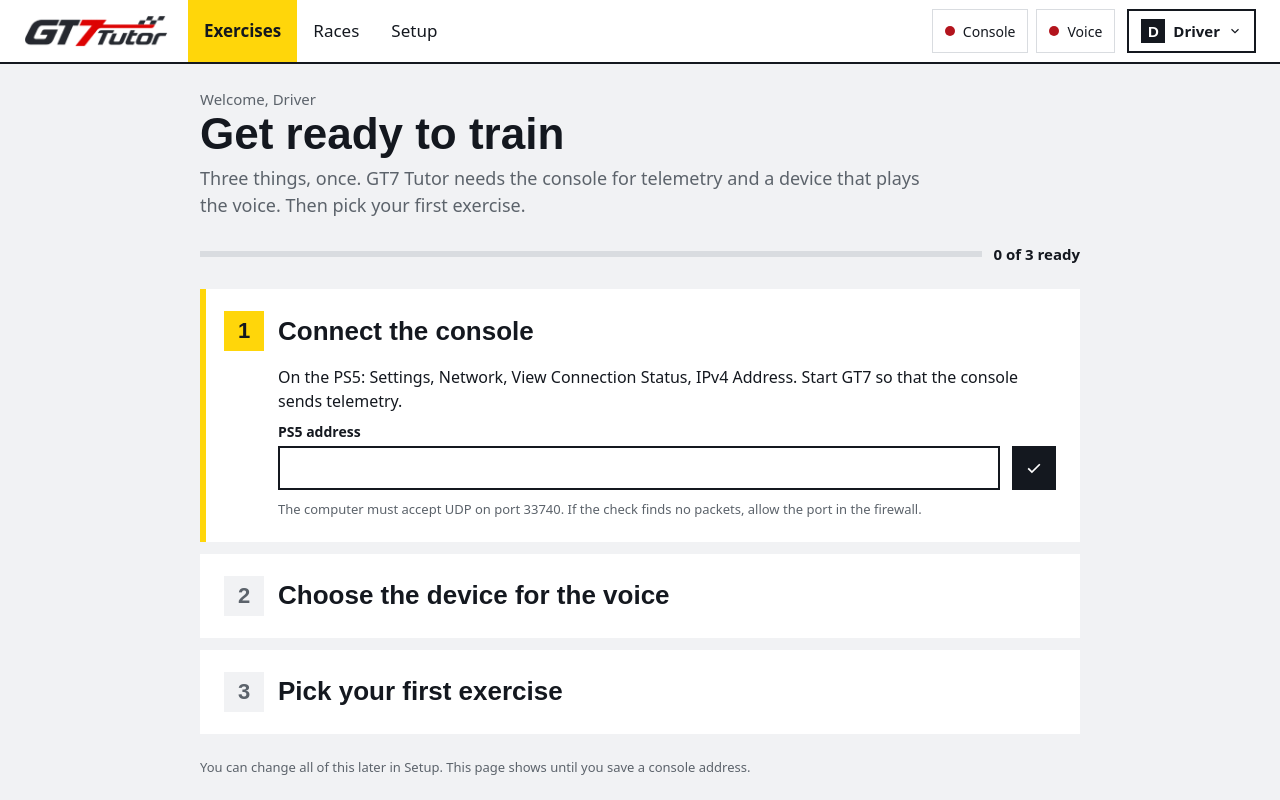
Test: get ready › wrong_address_stays_on_the_console_step
This screenshot has width=1280, height=800.
In the field labelled "PS5 address": (639, 468) x1=278 y1=446 x2=1000 y2=490, type "300.1.1.1"
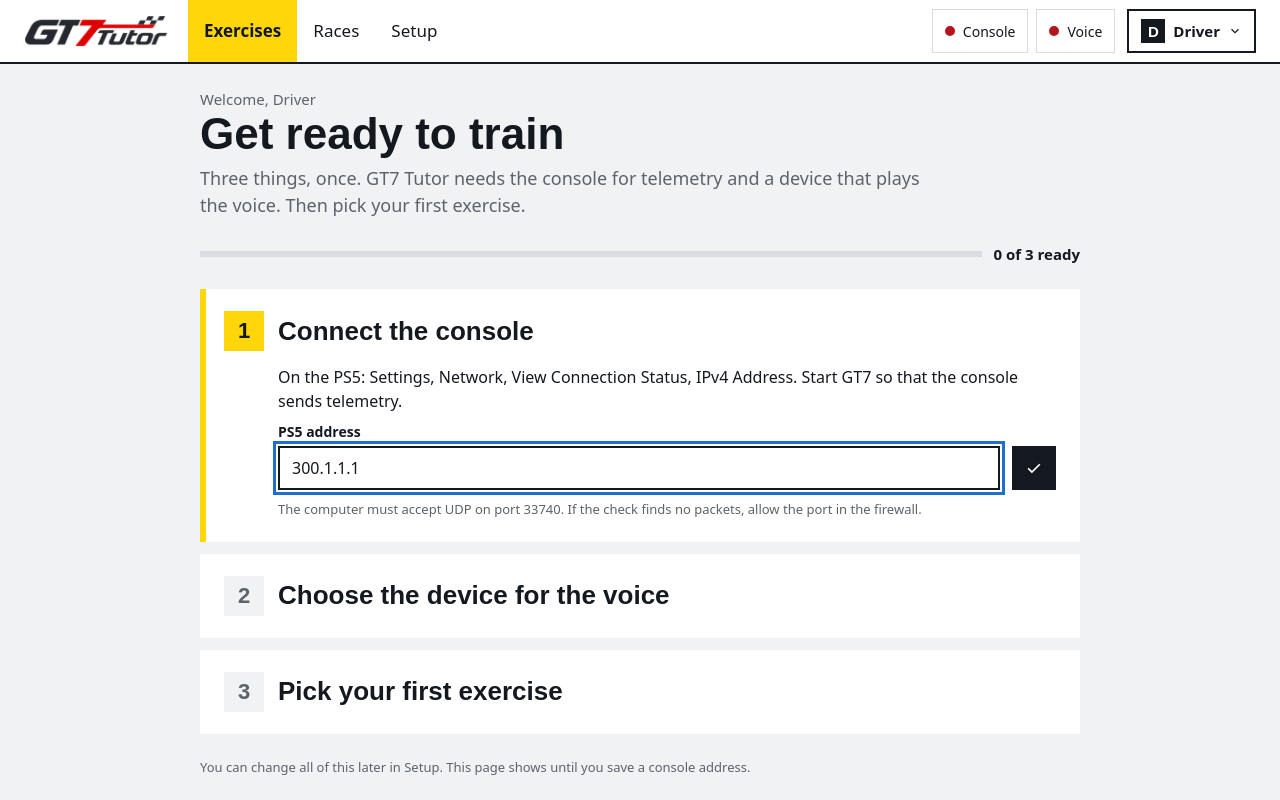
Click the 2nd button: (1034, 468) x1=1012 y1=446 x2=1056 y2=490
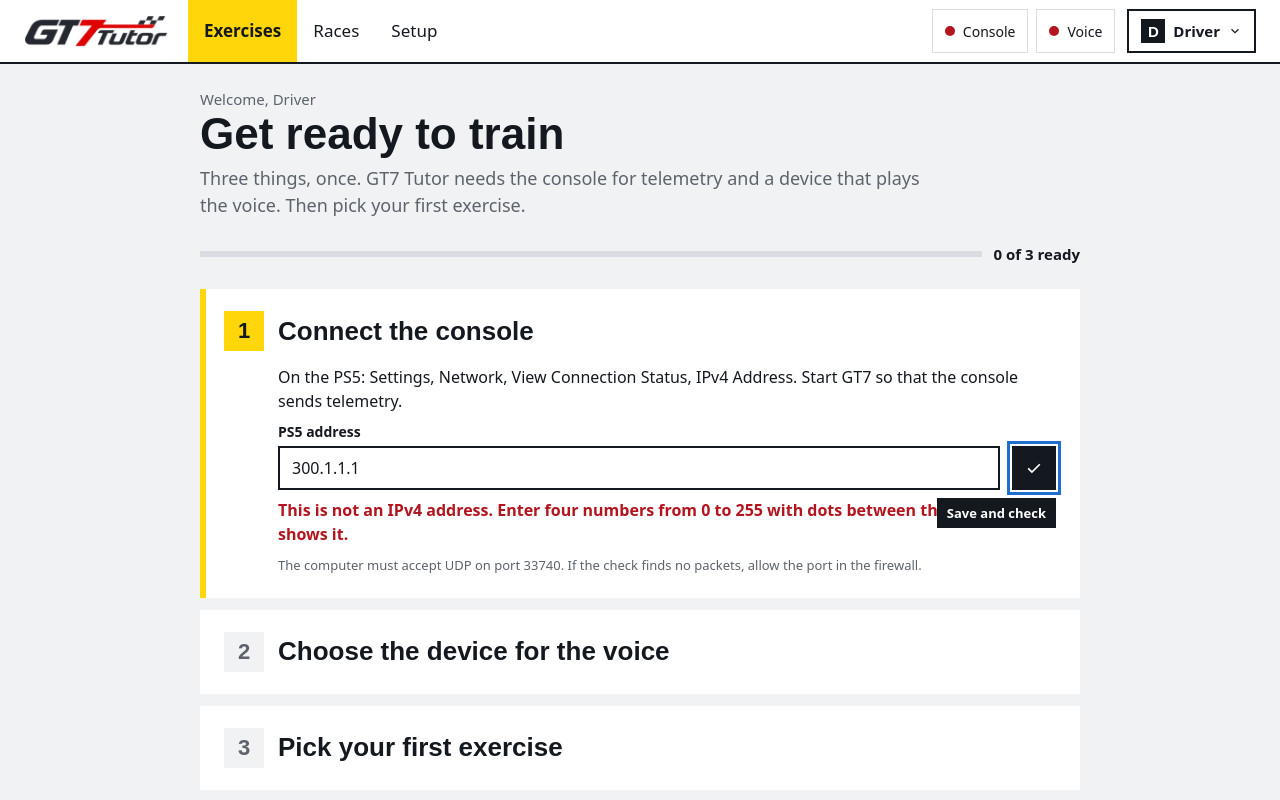
Check: the message shows "This is not an IPv4 address", box x1=278 y1=499 x2=1052 y2=545
